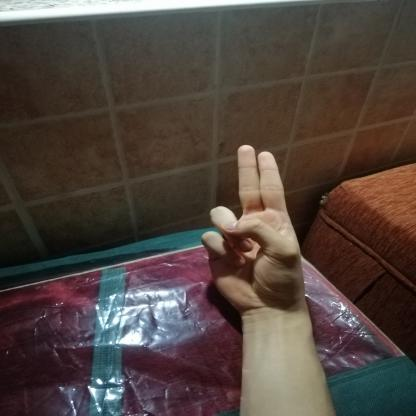TA: (188, 137, 321, 318)
